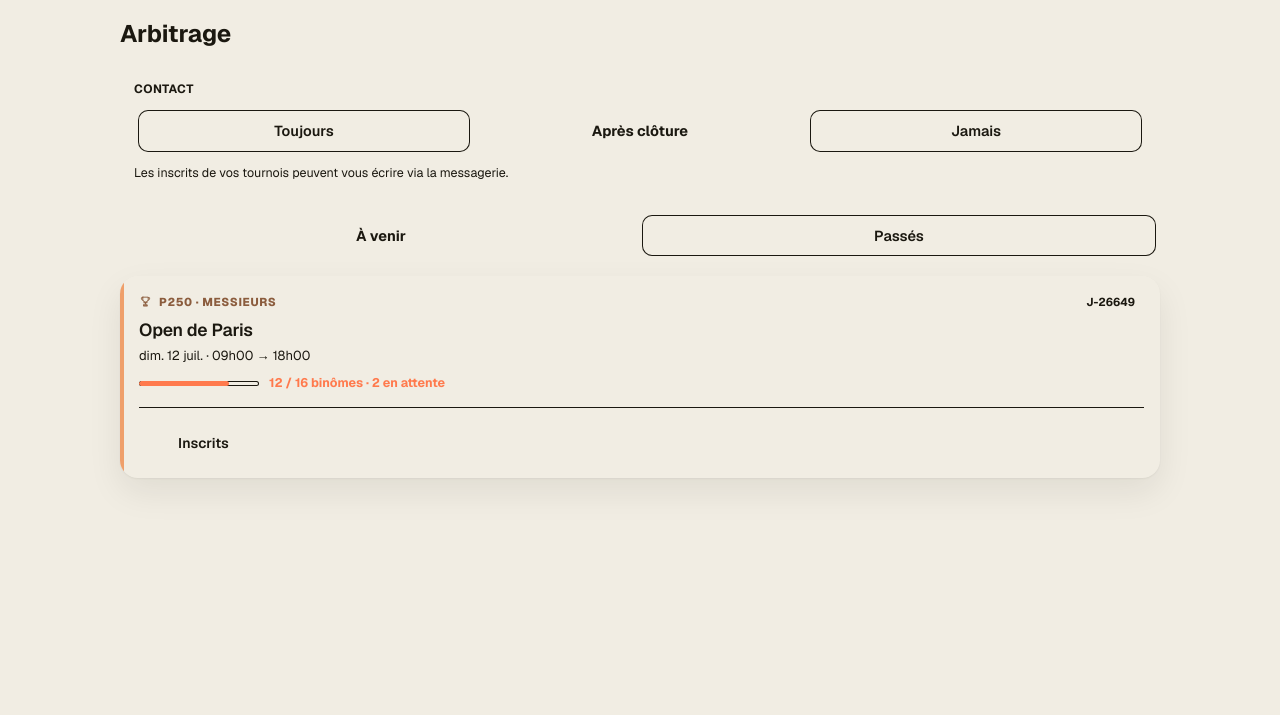
seul un binôme en attente est promouvable
This screenshot has width=1280, height=715.
Expected: the text "Open de Paris" is shown, [139, 318, 253, 340]
Click the button "Inscrits" at (192, 443), box [139, 422, 245, 464]
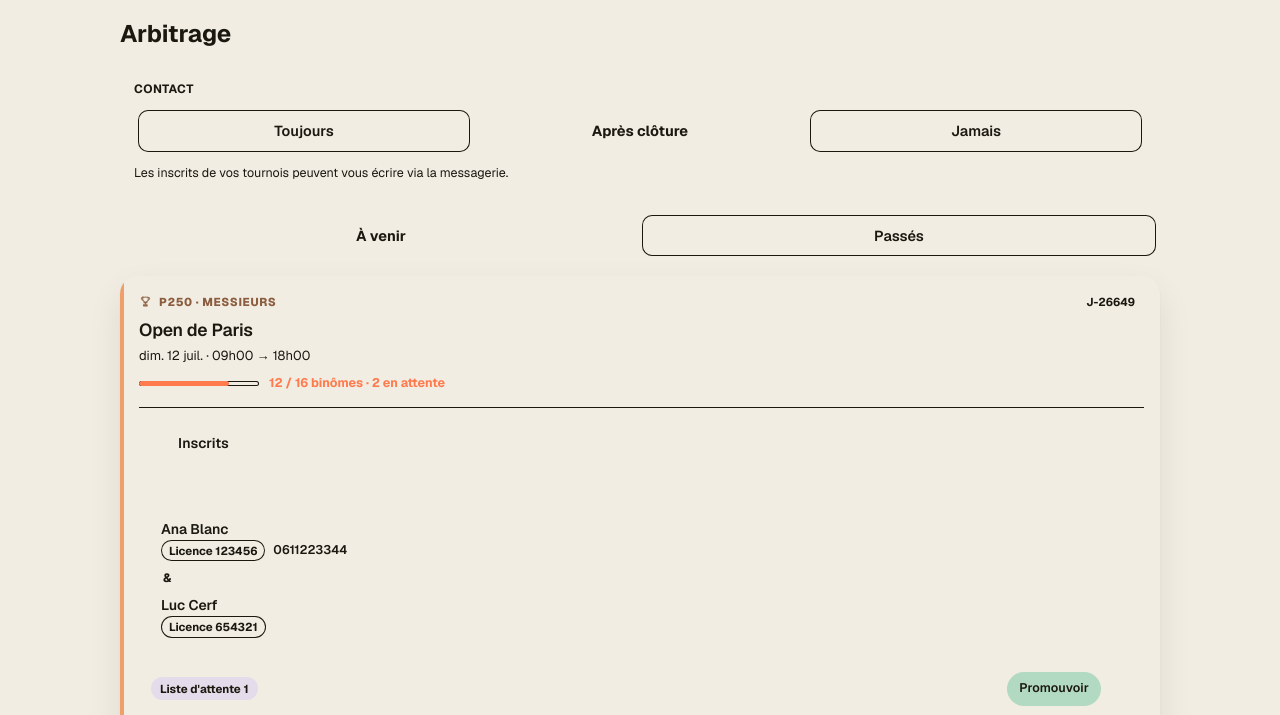
Result: the text "Licence 123456" is shown at [161, 540, 265, 561]
Result: the number of buttons "Promouvoir" is 1 at [1007, 672, 1101, 706]
Result: the text "Liste d'attente 1" is shown at [151, 677, 258, 700]
